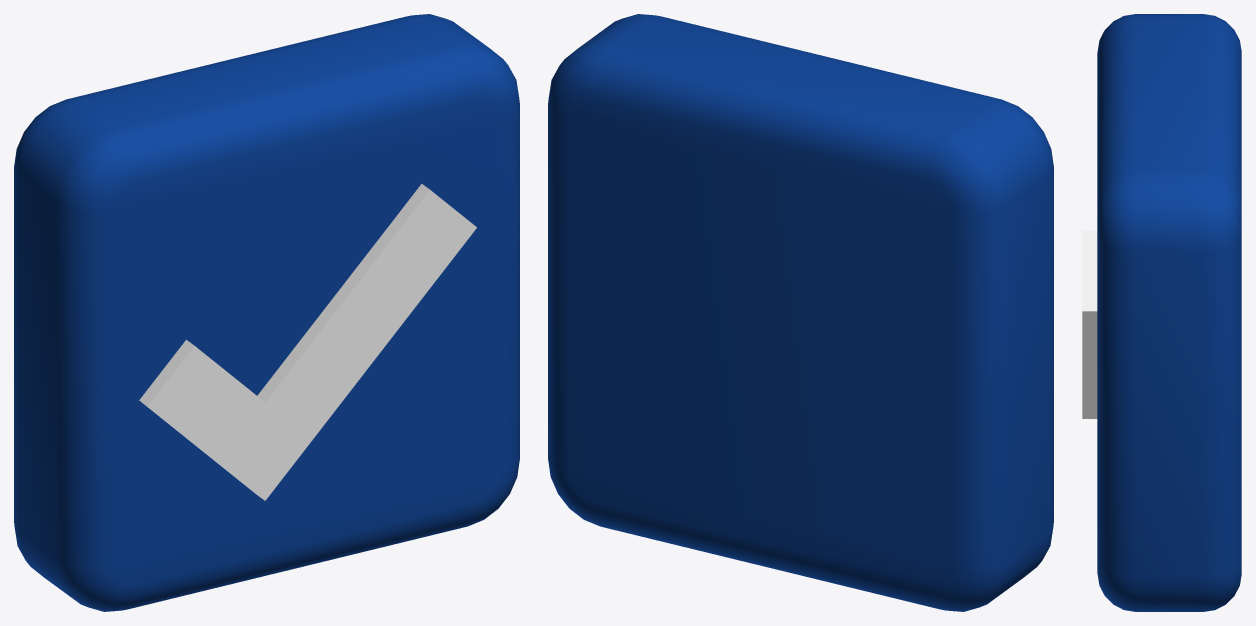
The model's file is check_box_with_check.glb.
The picture shows the model from 3 angles, left to right: view 1: azimuth 30°, elevation 25°; view 2: azimuth 150°, elevation 25°; view 3: azimuth 270°, elevation 25°; orthographic projection. The views are drawn at different scales.
Parts seen in each view (by area): view 1: Cube.6459; view 2: Cube.6459; view 3: Cube.6459.
Part boxes in pixels (<box>): Cube.6459: <box>14,14,519,611</box>; Cube.6459: <box>548,14,1053,611</box>; Cube.6459: <box>1082,14,1241,611</box>.
Bounding box in the file's own units: 2.2 × 2.2 × 0.73.
Materials: 1 (1 with a texture image).
